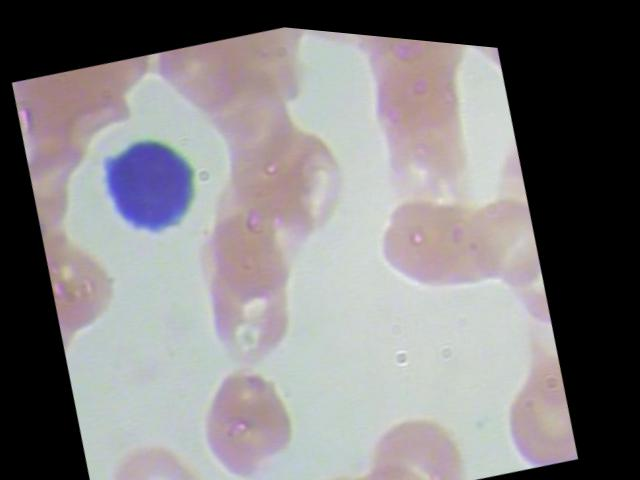Red Blood Cells: (363, 161, 519, 307), (185, 228, 318, 371), (191, 349, 322, 479), (486, 316, 596, 464), (364, 78, 487, 199), (449, 169, 555, 289), (355, 382, 484, 479), (202, 72, 310, 183), (340, 26, 479, 97), (107, 414, 234, 479), (224, 17, 319, 75), (309, 444, 438, 479)
White Blood Cells: (78, 101, 225, 255)
